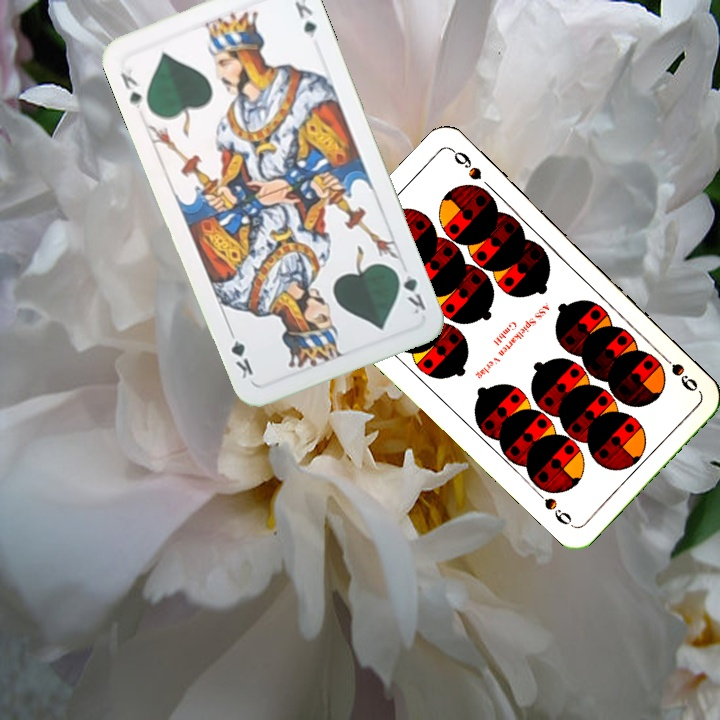GK: (390, 264, 429, 317), (116, 64, 145, 112)
S9: (655, 348, 701, 395)
